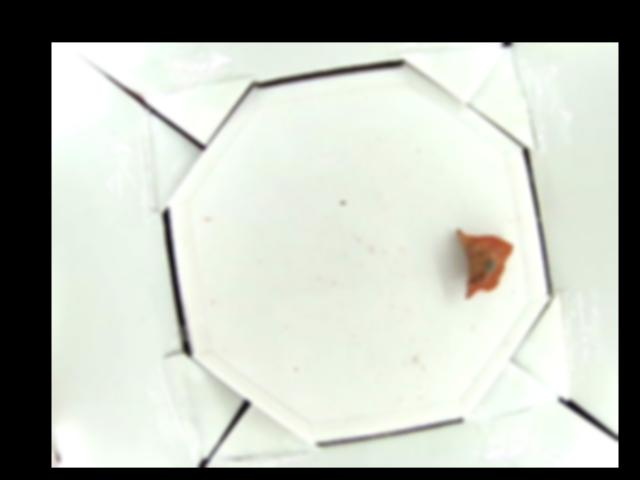Brisk: (455, 227, 513, 295)
